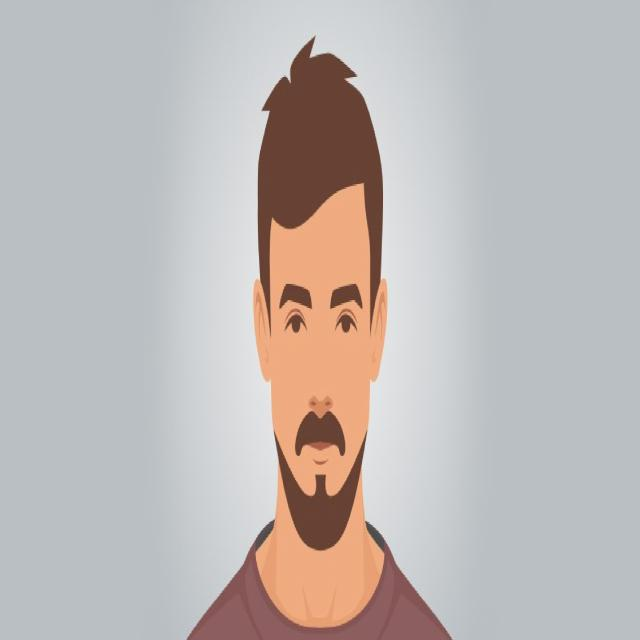beard: (275, 430, 367, 550), (296, 410, 345, 455)
hair: (258, 37, 383, 318)
